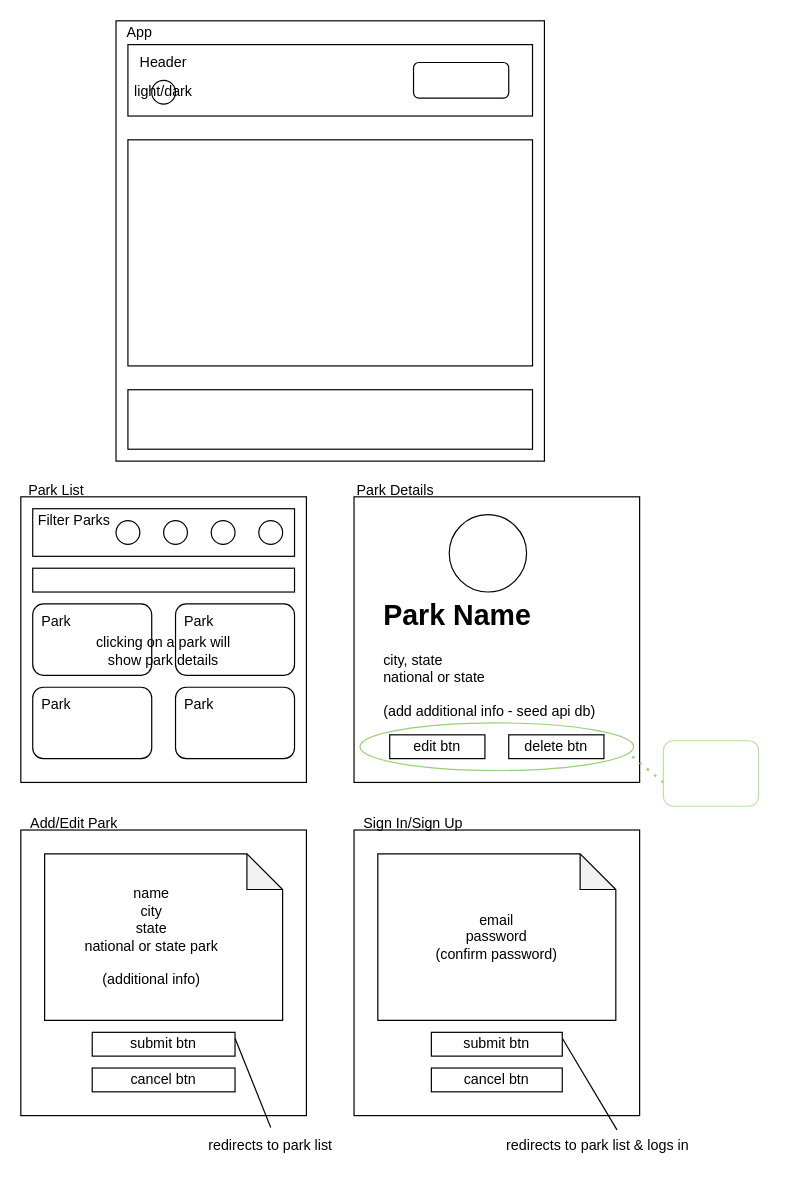
The diagram is 785 pixels wide and 1184 high, and some of its shapes have lost their labels. The centre of each missing label's shape, as x and y in pixels:
Footer: the point at 330,419
only visible when user is logged in: the point at 710,773
Pages buttons: the point at 163,579
Park Control - determines which element is showing: the point at 330,252
Photo or Icon: the point at 487,552
sign in/up btn: the point at 460,79
